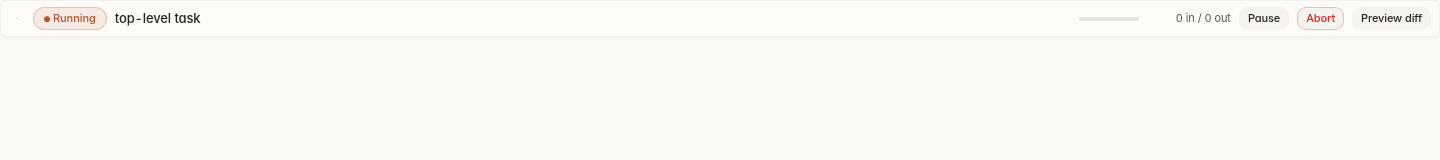
it: AgentTreeView › renders the worktree preview when it resolves while mounted (positive control)
Click the button "Preview diff".
click(1392, 18)  # box x1=1352 y1=7 x2=1431 y2=30
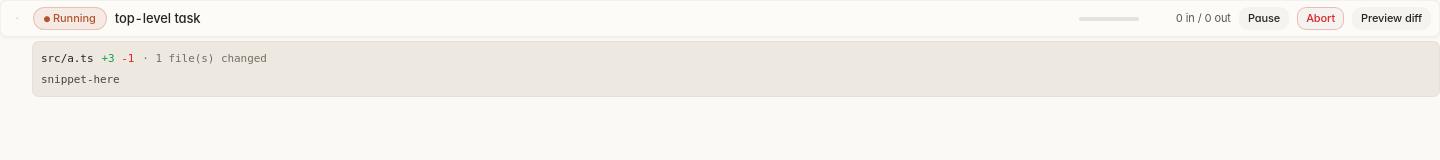
Result: the text "snippet-here" is shown at x1=41 y1=73 x2=120 y2=86
